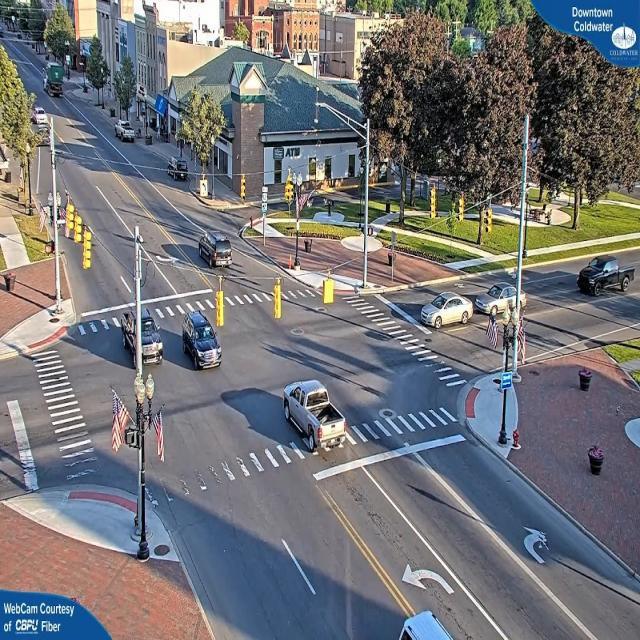car: (281, 382, 345, 445), (121, 312, 165, 374), (181, 308, 222, 371), (416, 290, 474, 330), (578, 257, 628, 296), (474, 280, 525, 317), (196, 233, 232, 269), (164, 157, 189, 180), (115, 122, 136, 143)
